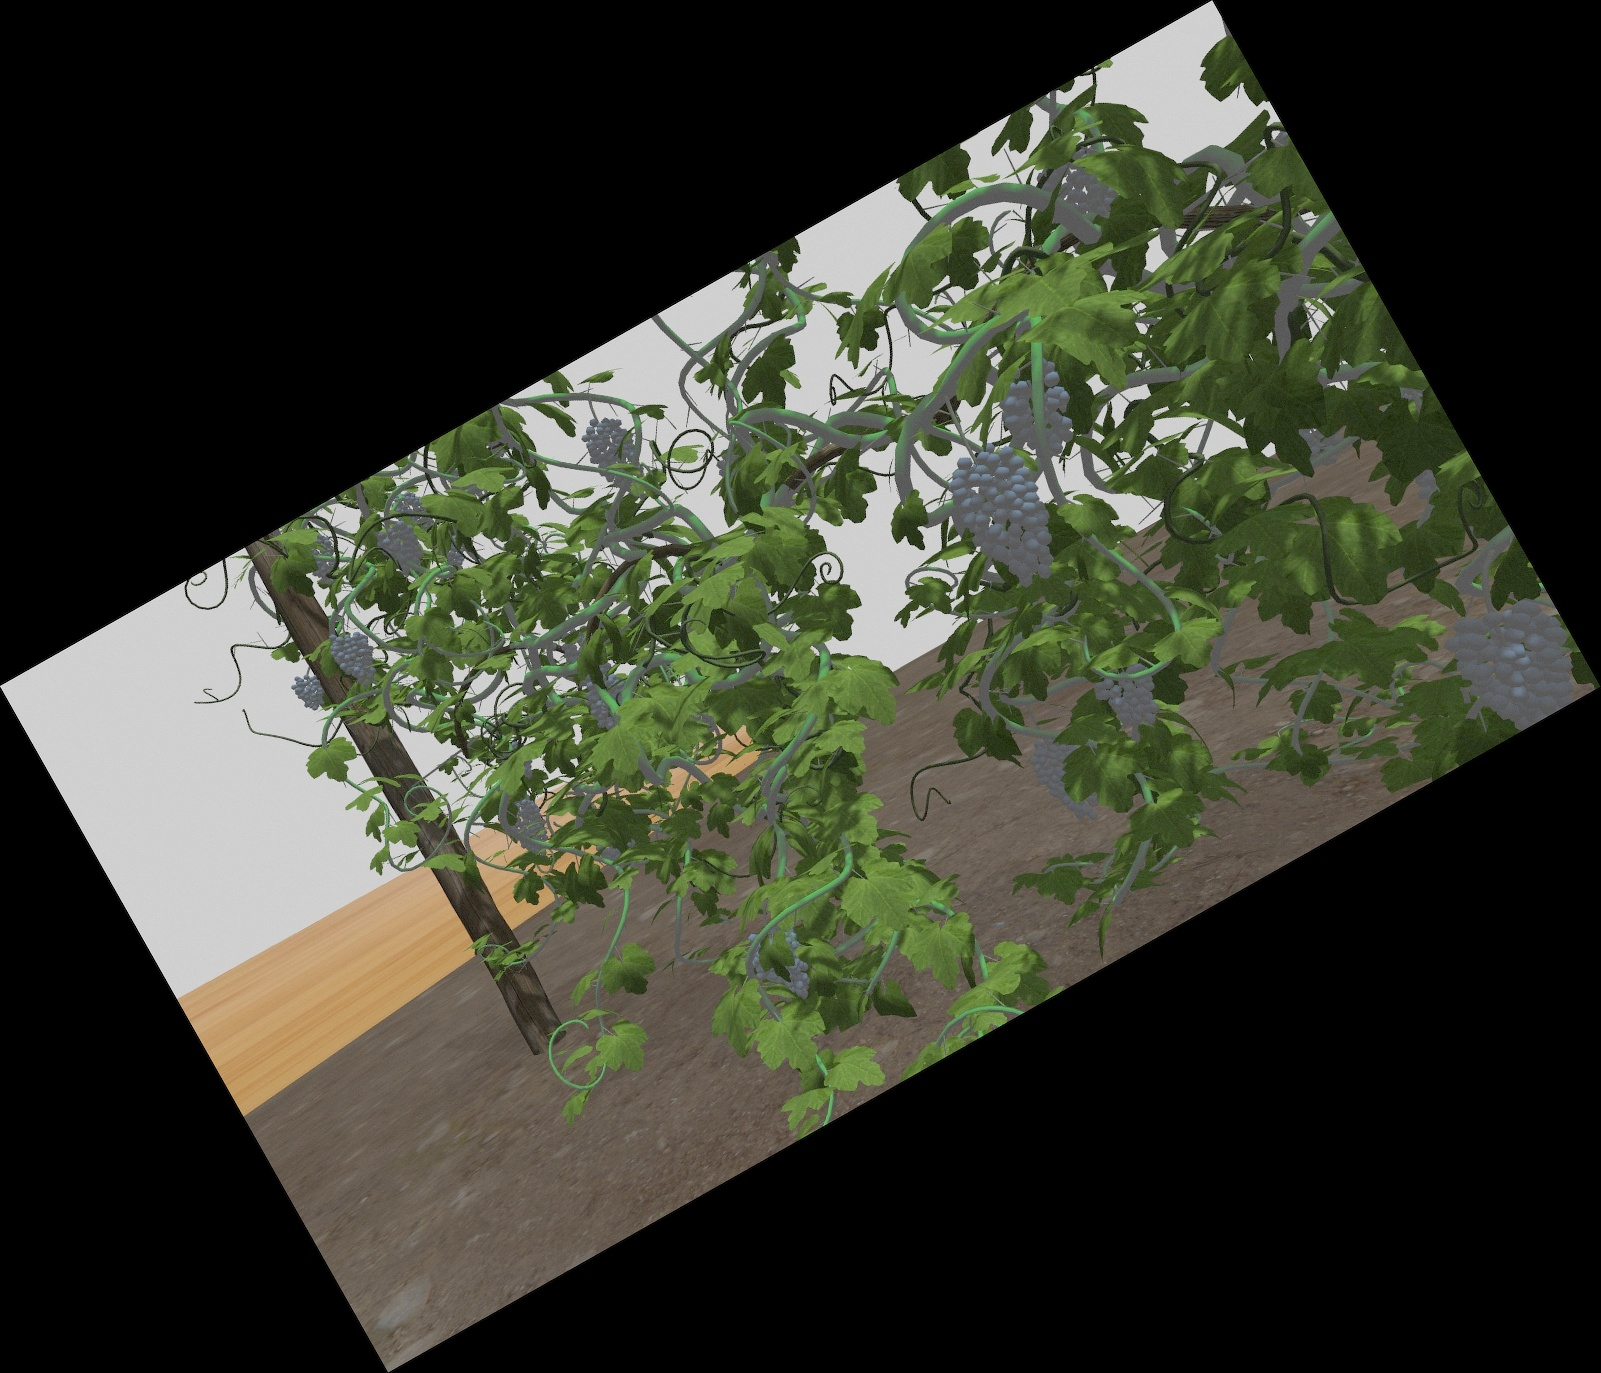grape: (1463, 608, 1568, 714), (971, 454, 1043, 578), (1044, 736, 1097, 827), (1007, 376, 1071, 450), (1105, 665, 1159, 732), (589, 416, 637, 484), (338, 631, 378, 683), (383, 525, 421, 576), (512, 804, 546, 856), (295, 674, 325, 718)
